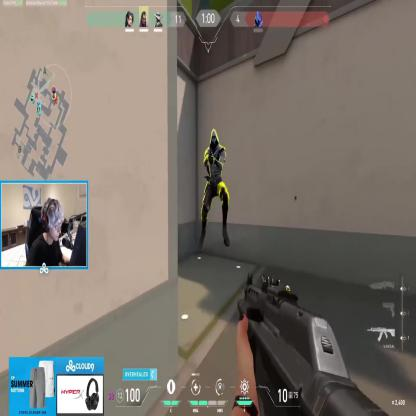enemy: (197, 128, 230, 246)
enemy_head: (210, 128, 219, 151)
